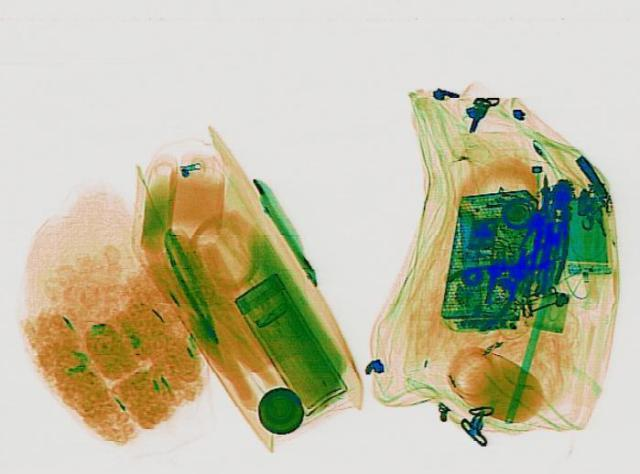Pliers: (420, 234, 566, 332)
